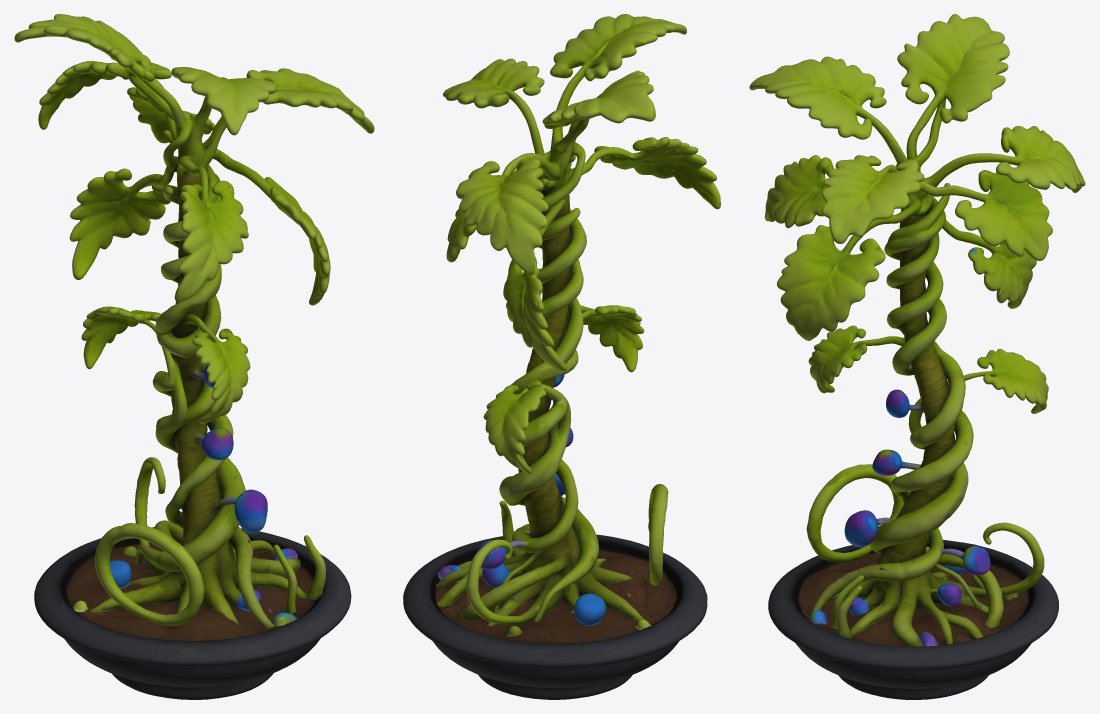
File: plant.glb
3 renders of one model, left to right at view 1: azimuth 30°, elevation 25°; view 2: azimuth 150°, elevation 25°; view 3: azimuth 270°, elevation 25°, orthographic. The views are drawn at different scales.
Visible parts, largest first — view 1: tripo_node_3377c4ad-184d-4af8-8578-b8325449c41f; view 2: tripo_node_3377c4ad-184d-4af8-8578-b8325449c41f; view 3: tripo_node_3377c4ad-184d-4af8-8578-b8325449c41f.
Boxes of the visible parts, <box> form: tripo_node_3377c4ad-184d-4af8-8578-b8325449c41f: <box>14,14,374,699</box>; tripo_node_3377c4ad-184d-4af8-8578-b8325449c41f: <box>403,14,720,699</box>; tripo_node_3377c4ad-184d-4af8-8578-b8325449c41f: <box>749,14,1085,699</box>.
Size of the model in its own units: 0.4531 by 1 by 0.5076.
Materials: 1 (1 with a texture image).
